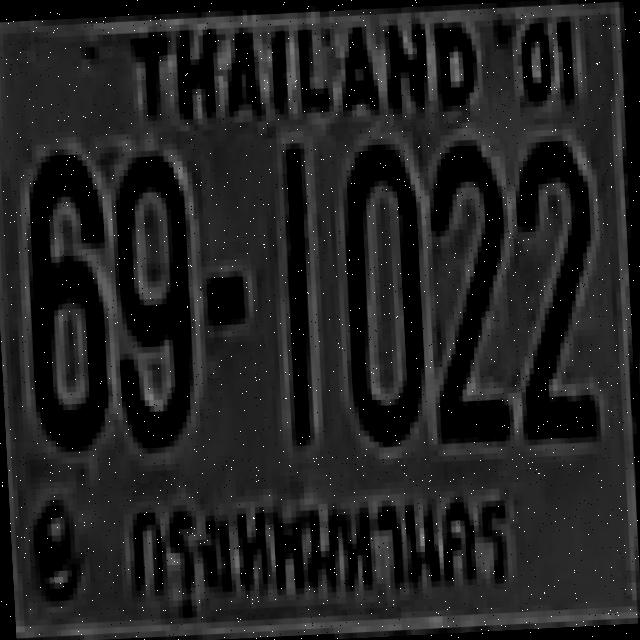0: (336, 140, 428, 440), (114, 149, 199, 401), (114, 149, 196, 348)
1: (279, 146, 315, 396)
2: (424, 142, 510, 400), (511, 137, 596, 395), (425, 186, 510, 438)
6: (25, 150, 117, 444)
9: (114, 149, 202, 443)
Bangkok: (112, 464, 528, 633)
